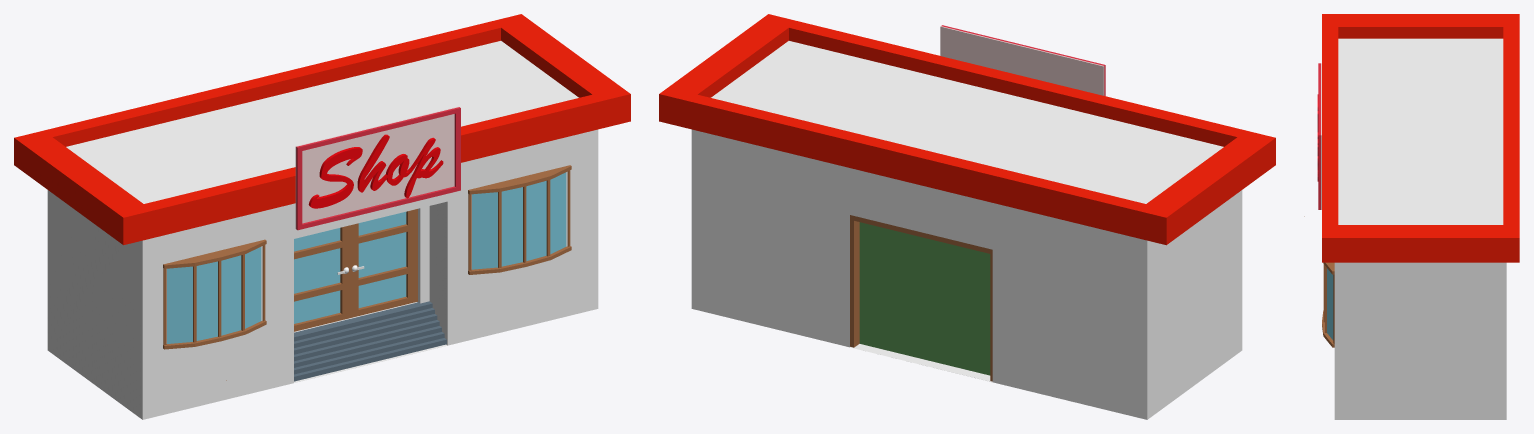
Rendered from uploads_files_3215158_BuildShop+.fbx.
3 views of the same model, side by side, from view 1: azimuth 30°, elevation 25°; view 2: azimuth 150°, elevation 25°; view 3: azimuth 270°, elevation 25° (orthographic). The views are drawn at different scales.
Parts seen in each view (by area): view 1: Build; view 2: Build; view 3: Build.
Part boxes in pixels (x1,y1,x2,y2): Build: [14, 14, 630, 419]; Build: [659, 14, 1275, 419]; Build: [1304, 14, 1519, 419].
Bounding box in the file's own units: 832 × 381 × 338.
